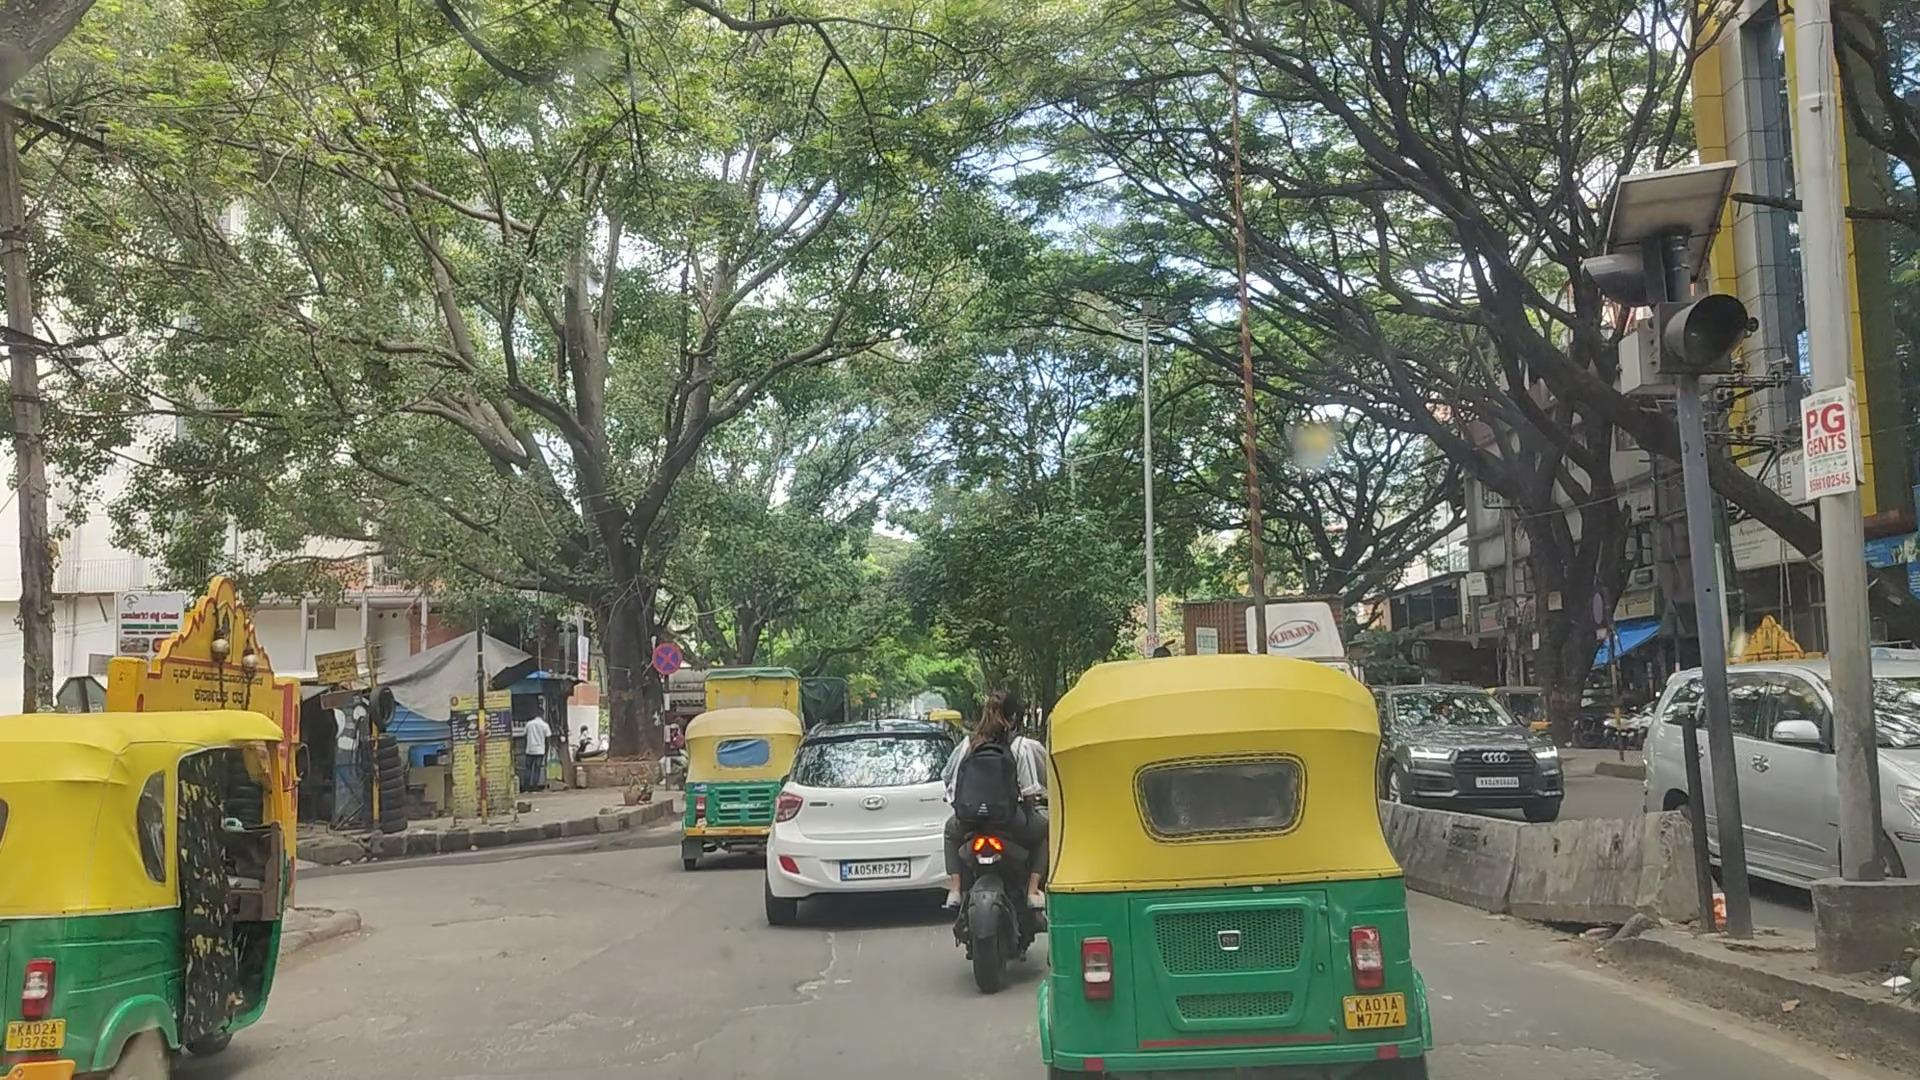LMV: (1046, 657, 1432, 1080), (771, 727, 965, 909), (944, 694, 1040, 965), (686, 711, 786, 853)
RoadDamages: (516, 1006, 679, 1077), (553, 903, 662, 1000), (1436, 1034, 1659, 1080), (782, 934, 865, 1025), (298, 1002, 413, 1056)
